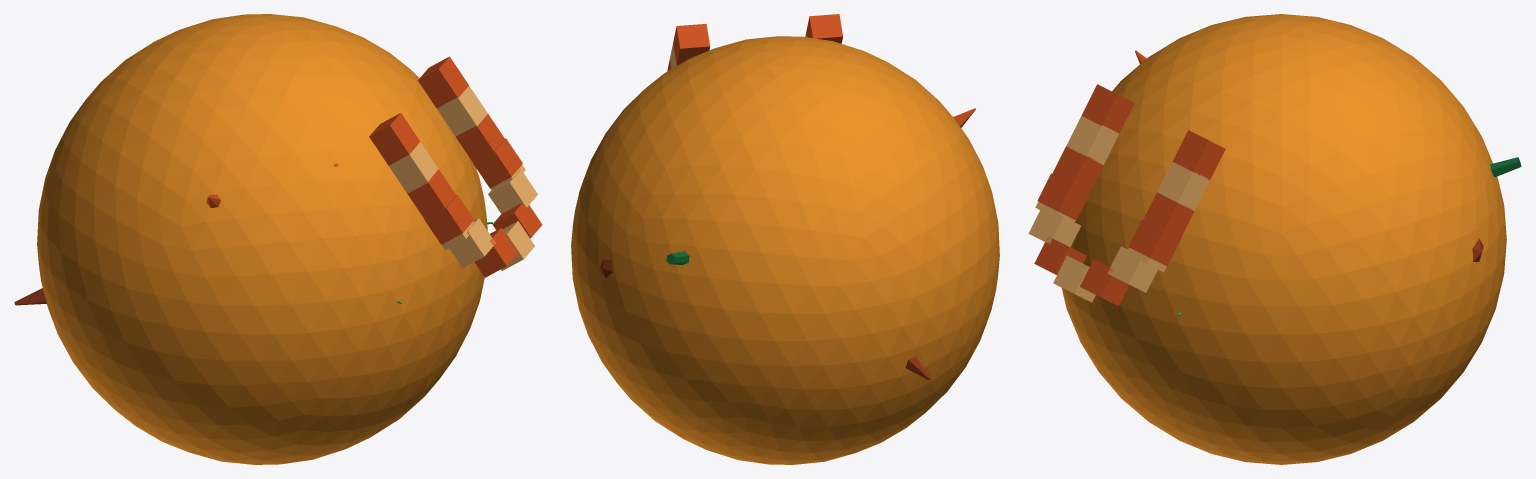
File: Desert_05.fbx
The picture shows the model from 3 angles, left to right: view 1: azimuth 30°, elevation 25°; view 2: azimuth 150°, elevation 25°; view 3: azimuth 270°, elevation 25°; orthographic projection. The views are drawn at different scales.
Visible parts, largest first — view 1: Desert_05; view 2: Desert_05; view 3: Desert_05.
Part boxes in pixels (bbox=[...]): Desert_05: bbox=[14, 14, 542, 464]; Desert_05: bbox=[571, 14, 999, 464]; Desert_05: bbox=[1028, 14, 1521, 464].
Bounding box in the file's own units: 6.12 × 6 × 6.56.
Materials: 1 (1 with a texture image).
